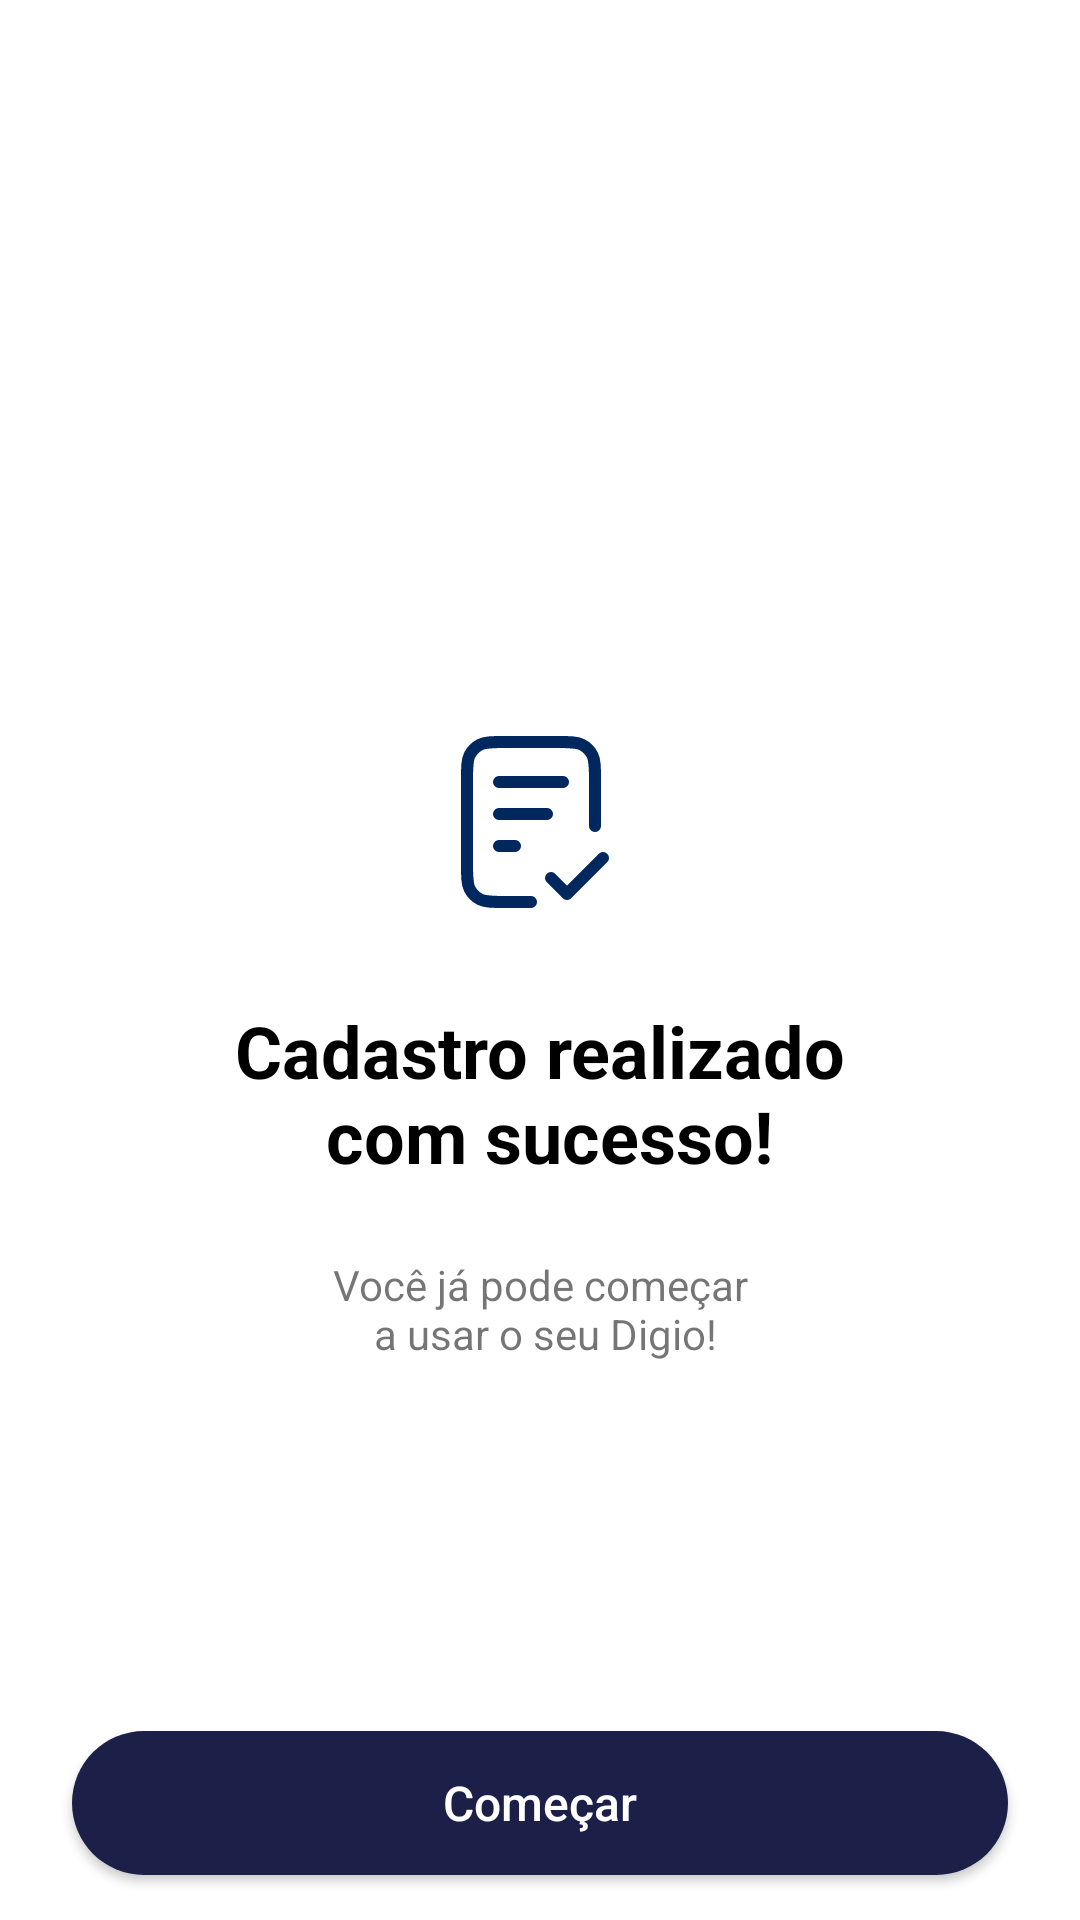

Point at icon controls on the screen. Image size 1080px×1920px, points as [x,y].
file check: [535,822]
